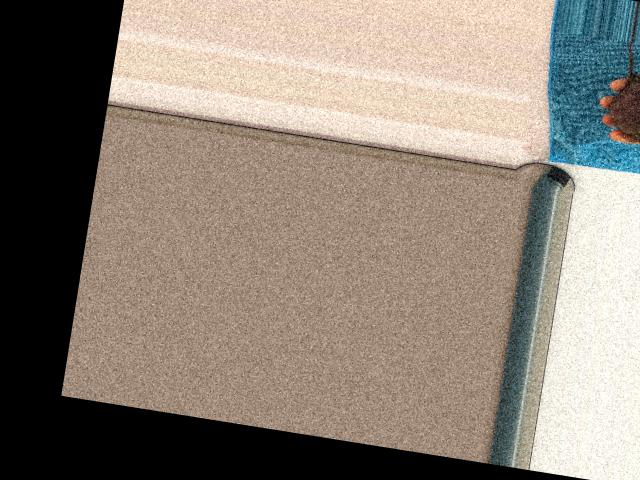beet: (603, 39, 640, 154)
